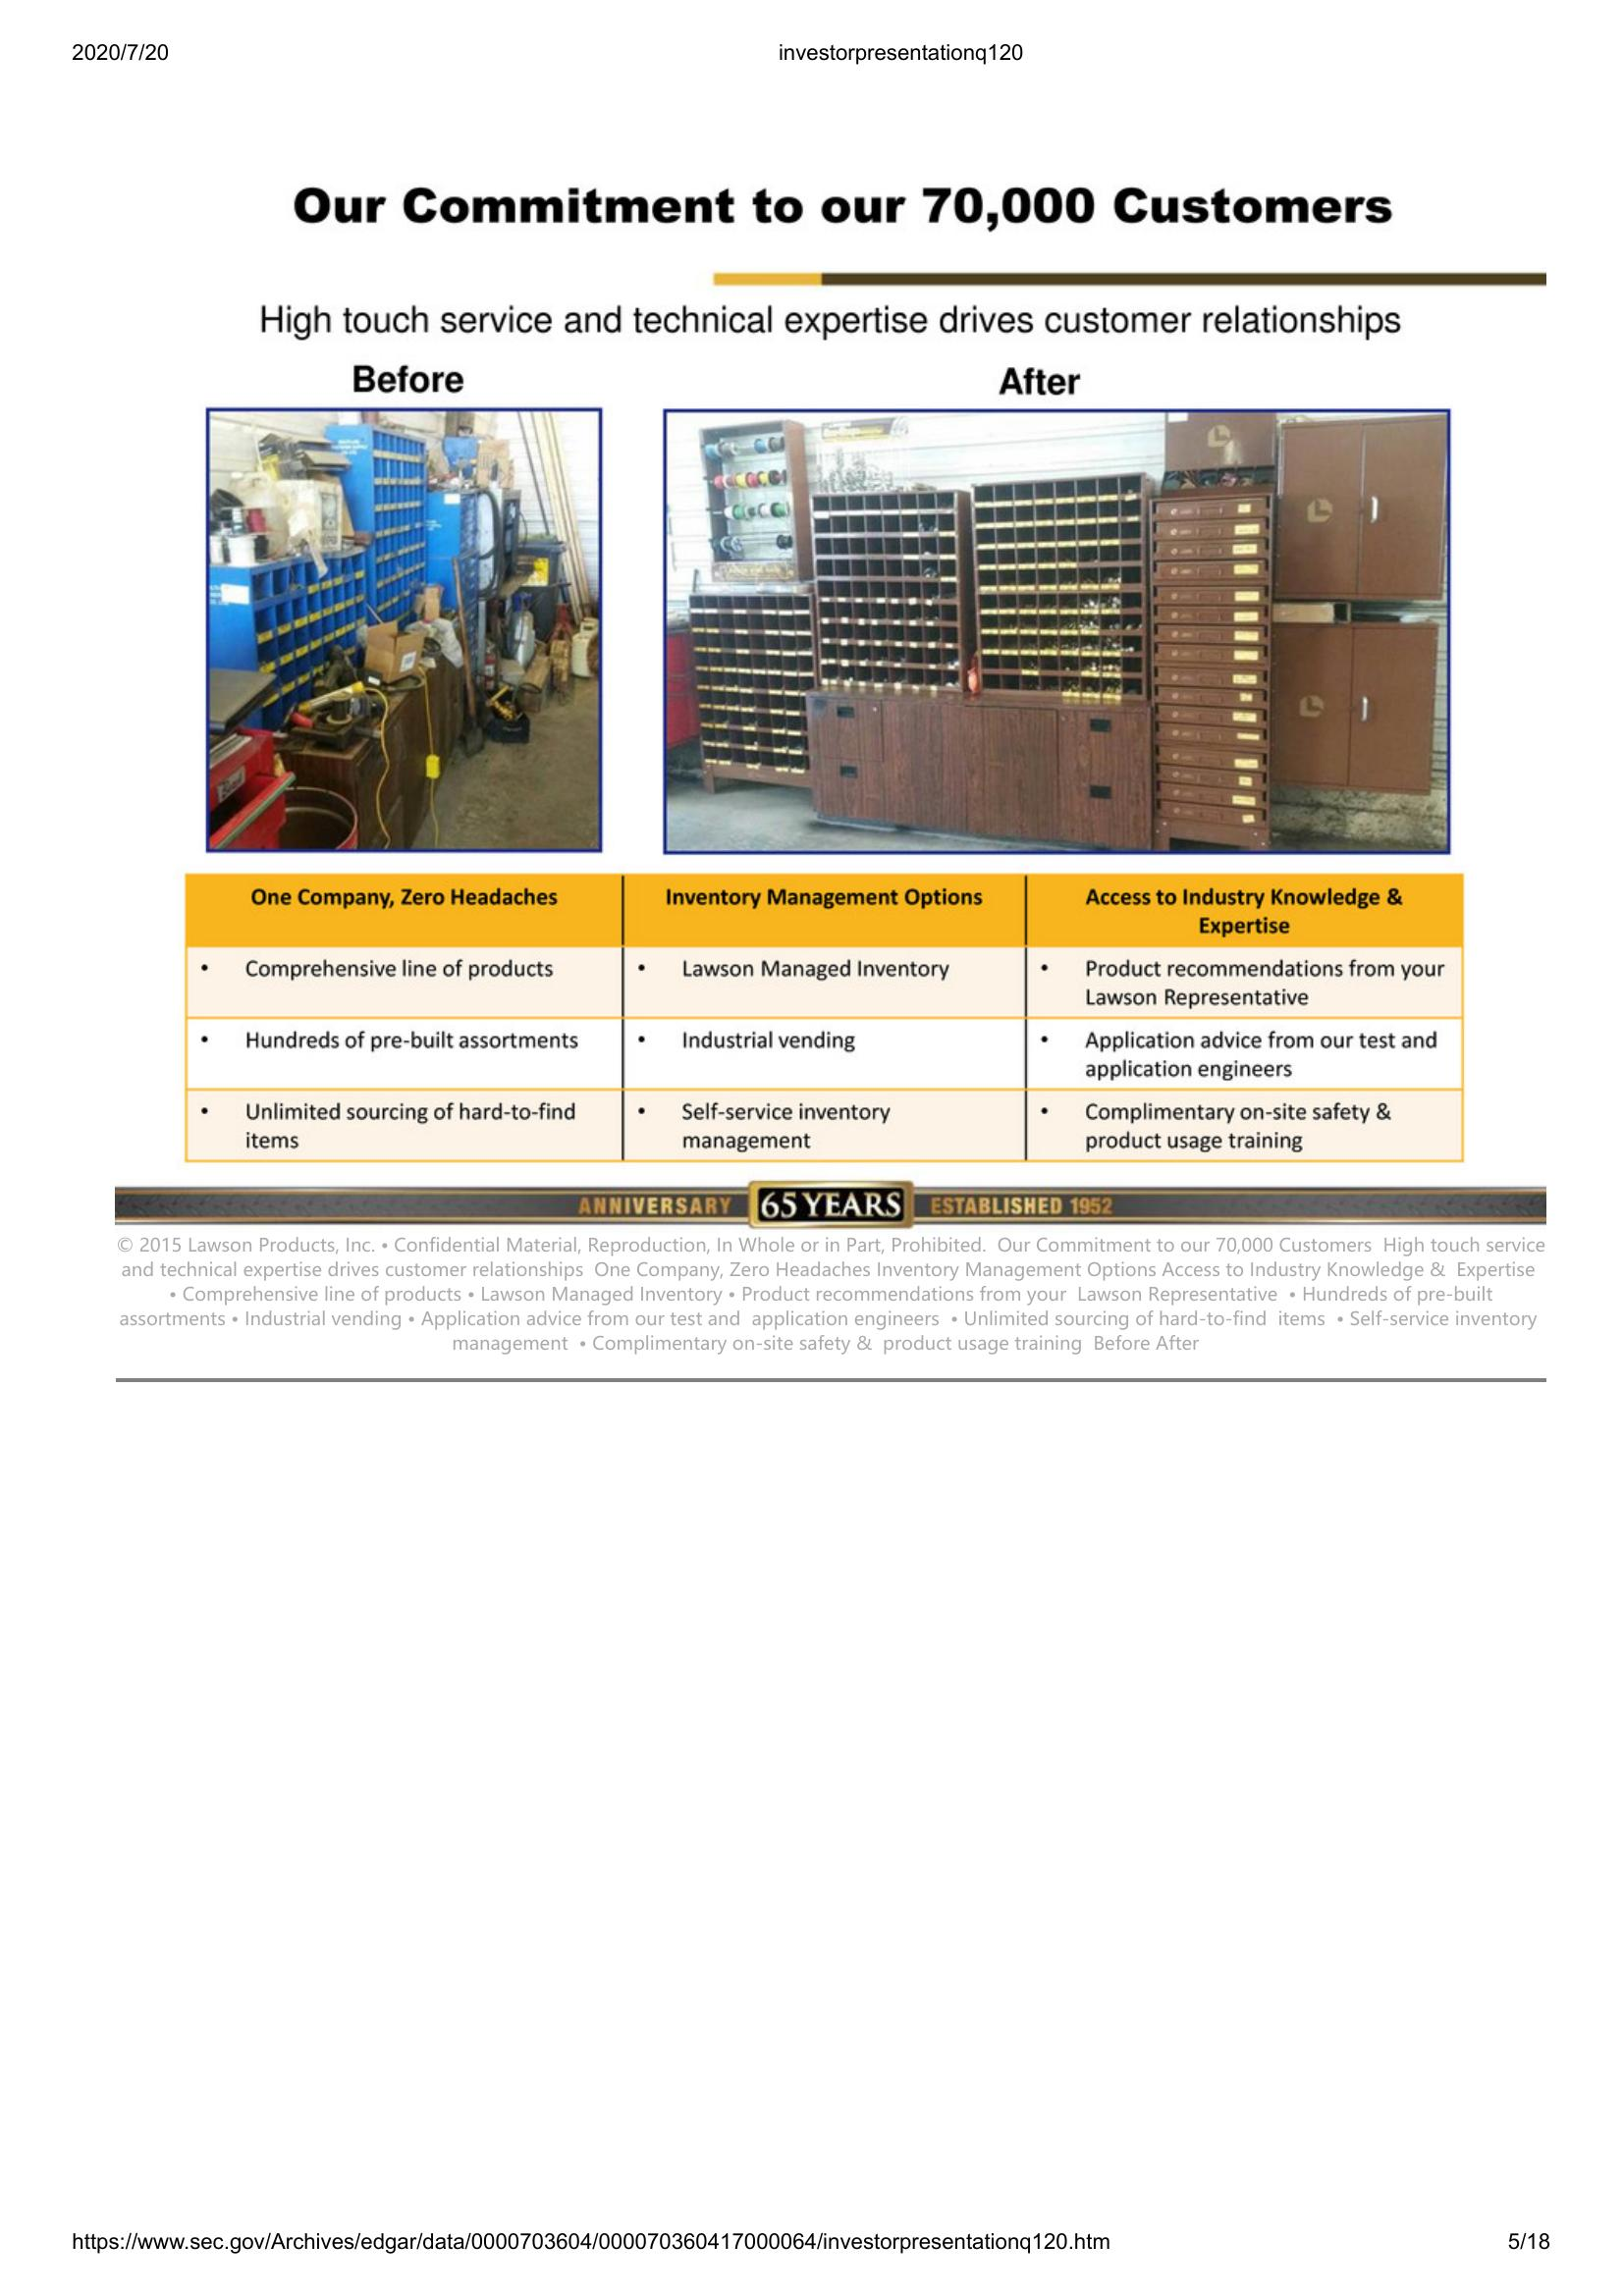table: (184, 869, 1475, 1166)
